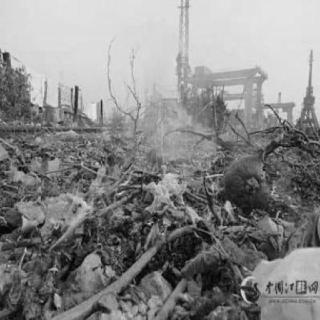Fire: (206, 167, 218, 191)
other: (288, 275, 306, 301)
